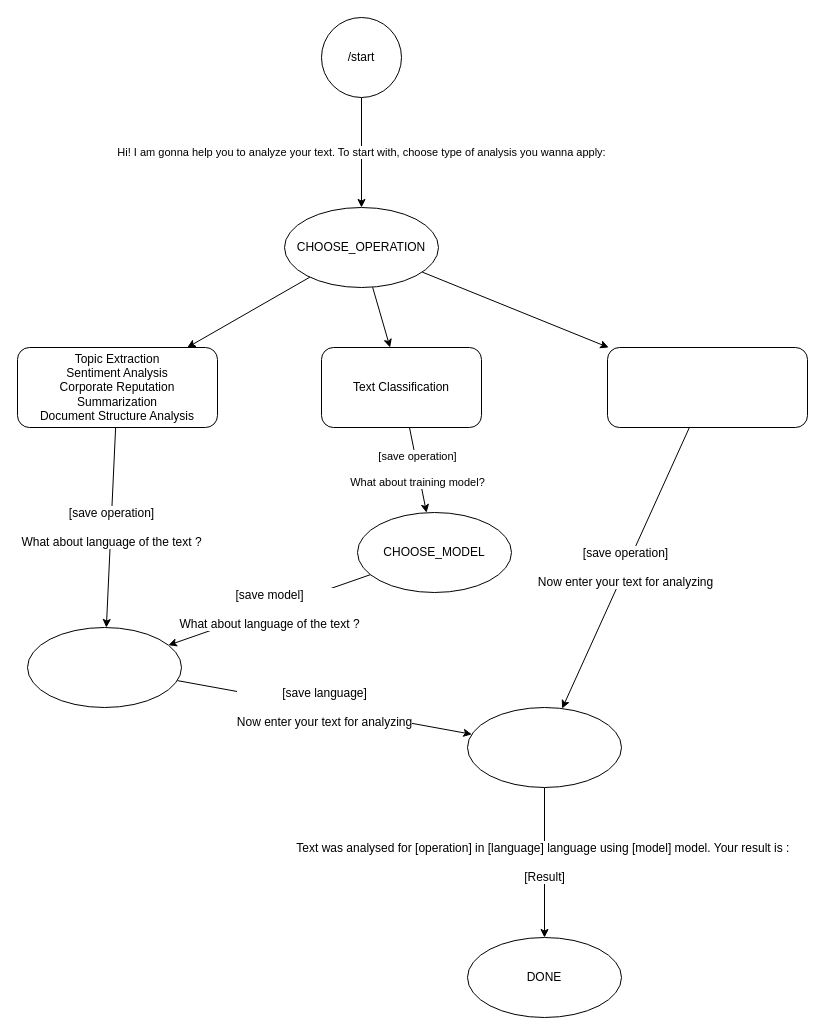
This 825x1035 diagram has some shape labels left out. Here are the shapes that lost their labels. From the top down, the box of each, then its label:
(606, 346, 808, 428): Language Identification Lemmatization, Pos and Parsing Text Clustering
(26, 626, 182, 708): CHOOSE_LANG
(466, 706, 622, 788): ENTER_TEXT
